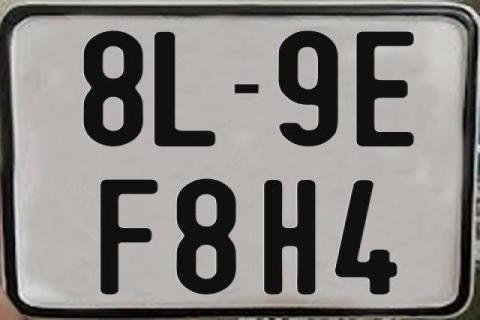0: (334, 177, 401, 293), (278, 30, 344, 146), (174, 177, 238, 295), (82, 30, 143, 146)
E: (354, 29, 416, 149)
F: (99, 178, 163, 296)
H: (262, 180, 320, 299)
L: (153, 30, 218, 150)
